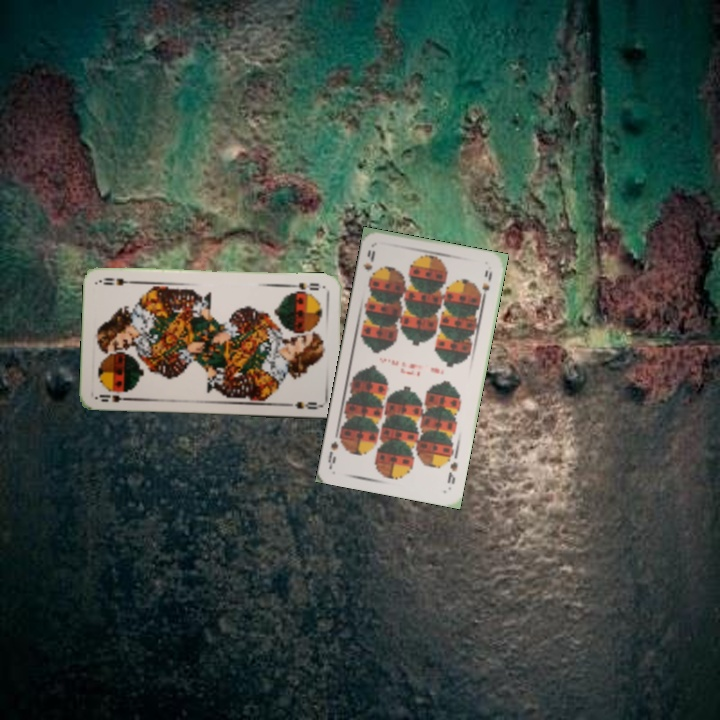S9: (359, 246, 378, 284), (443, 458, 460, 486)
SO: (286, 279, 321, 295), (93, 391, 134, 404)
